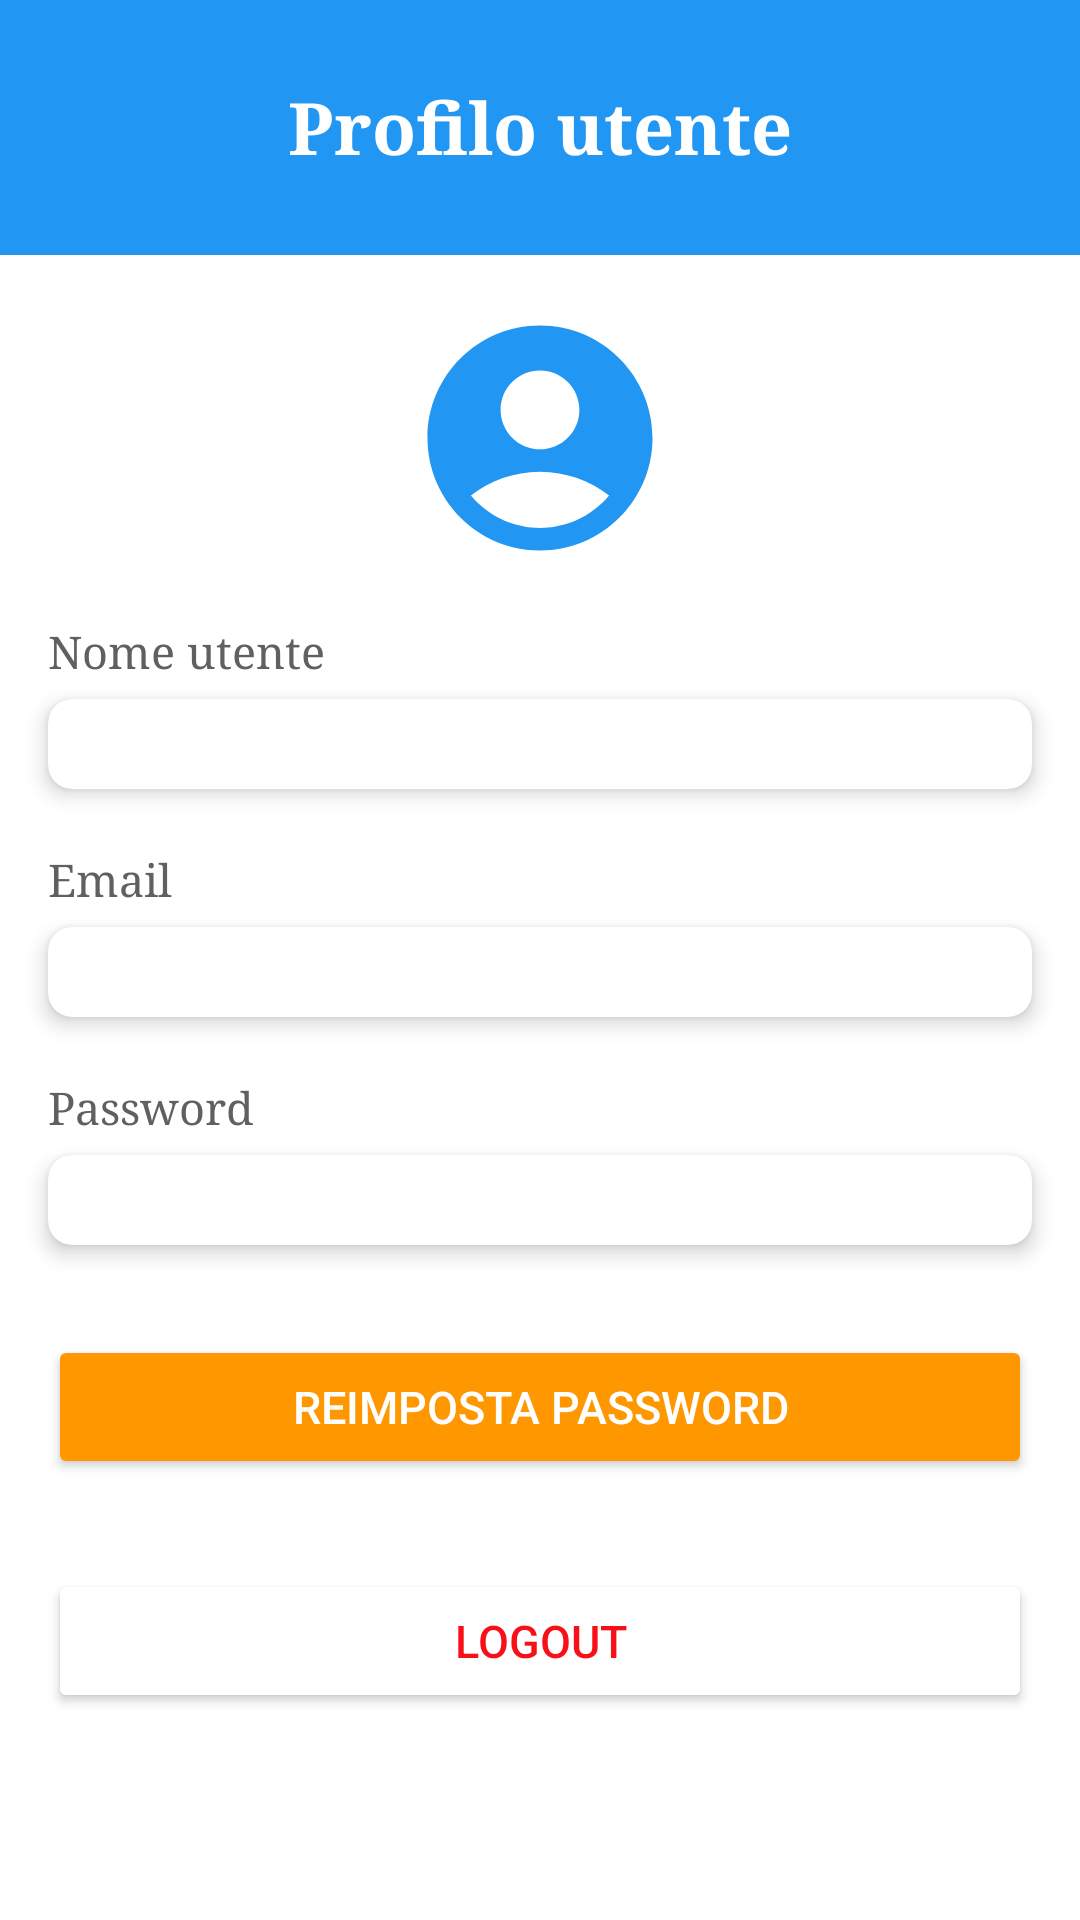

Point at icon controls on the screen. Image size 1080 × 1920, points as (x,y).
profile: (540,438)
